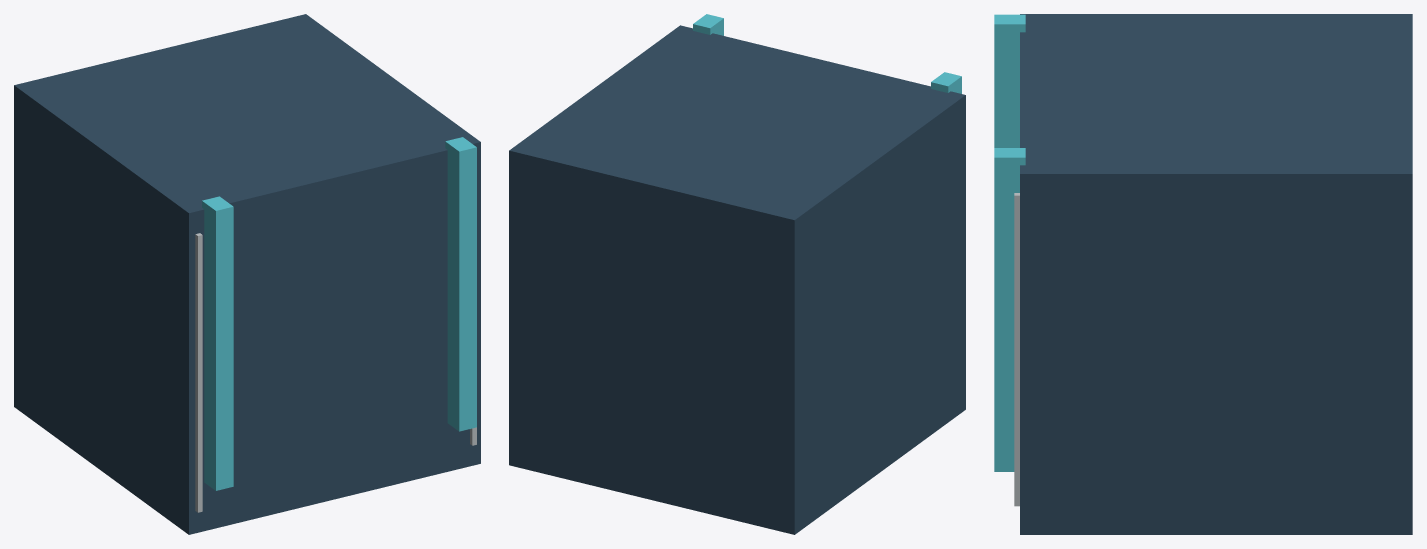
Rendered from 29_L75_WaferCarrierCassette.glb.
3 renders of one model, left to right at view 1: azimuth 30°, elevation 25°; view 2: azimuth 150°, elevation 25°; view 3: azimuth 270°, elevation 25°, orthographic. The views are drawn at different scales.
Visible parts, largest first — view 1: WaferCarrierCassette_Node_0000, WaferCarrierCassette_Node_0027, WaferCarrierCassette_Node_0028, WaferCarrierCassette_Node_0005; view 2: WaferCarrierCassette_Node_0000; view 3: WaferCarrierCassette_Node_0000, WaferCarrierCassette_Node_0028, WaferCarrierCassette_Node_0027, WaferCarrierCassette_Node_0006.
Part boxes in pixels (box(x1,y1,x2,y2)): WaferCarrierCassette_Node_0000: box(14, 14, 480, 534); WaferCarrierCassette_Node_0027: box(202, 196, 233, 490); WaferCarrierCassette_Node_0028: box(445, 137, 476, 431); WaferCarrierCassette_Node_0005: box(195, 233, 202, 512); WaferCarrierCassette_Node_0000: box(509, 25, 965, 534); WaferCarrierCassette_Node_0000: box(1020, 14, 1412, 534); WaferCarrierCassette_Node_0028: box(994, 148, 1025, 471); WaferCarrierCassette_Node_0027: box(994, 14, 1025, 147); WaferCarrierCassette_Node_0006: box(1014, 193, 1019, 506).
Size of the model in its own units: 1.32 by 1.42 by 1.46.
